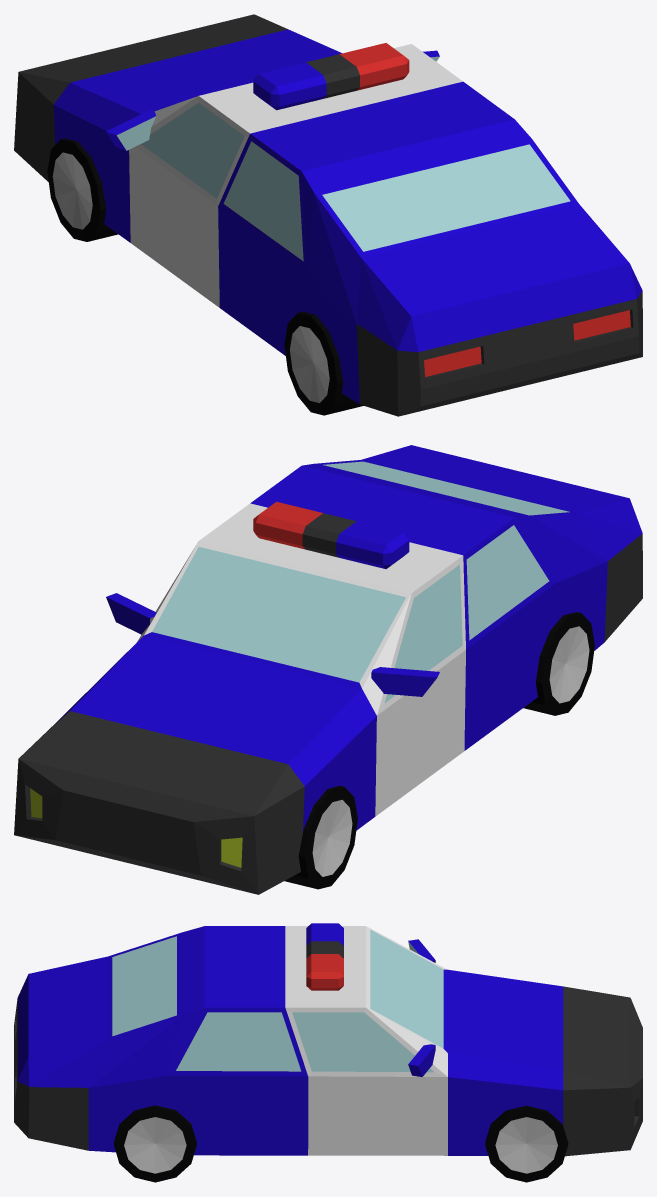
File: CarroPulissa.fbx
3 views of the same model, one above another, from view 1: azimuth 30°, elevation 25°; view 2: azimuth 150°, elevation 25°; view 3: azimuth 270°, elevation 25° (orthographic). The views are drawn at different scales.
Parts seen in each view (by area): view 1: CarroPulissa; view 2: CarroPulissa; view 3: CarroPulissa.
Boxes of the visible parts, x1,y1,x2,y2 form: CarroPulissa: (14,14,642,416); CarroPulissa: (14,445,642,894); CarroPulissa: (14,923,642,1182).
Size of the model in its own units: 304 by 207 by 637.
